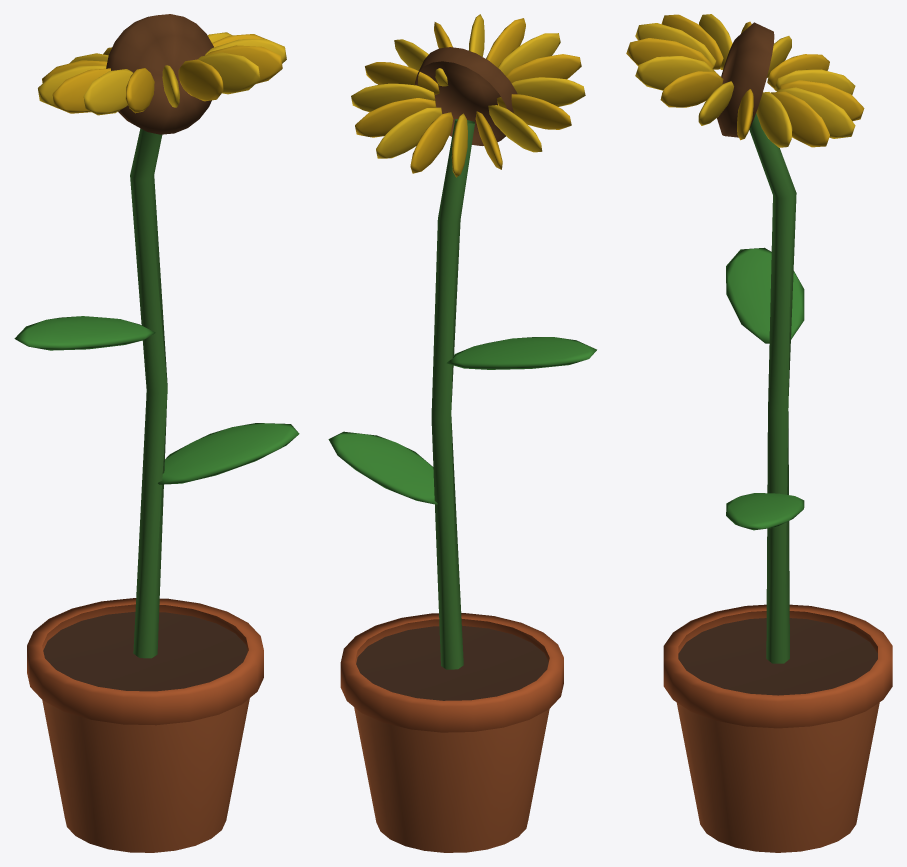
File: furn_sunflower.glb
The picture shows the model from 3 angles, left to right: view 1: azimuth 30°, elevation 25°; view 2: azimuth 150°, elevation 25°; view 3: azimuth 270°, elevation 25°; orthographic projection. The views are drawn at different scales.
Parts seen in each view (by area): view 1: furn_sunflower_main; view 2: furn_sunflower_main; view 3: furn_sunflower_main.
Boxes of the visible parts, box(x1,y1,x2,y2) form: furn_sunflower_main: box(14, 14, 299, 852); furn_sunflower_main: box(328, 14, 596, 852); furn_sunflower_main: box(626, 14, 892, 852).
Bounding box in the file's own units: 0.474 × 1.33 × 0.4054.
